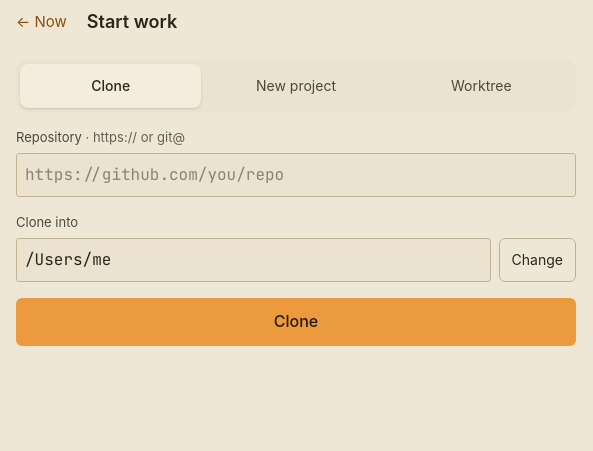
Start work › shows the daemon's refusal and offers to try again
The image size is (593, 451).
expect the field showing "/Users/me" is shown: met, box 16,238 -> 491,282
Type "https://github.com/octocat/Hello-World" into the field with placeholder "https://github.com/you/repo" at (296, 175), box 16,153 -> 576,197
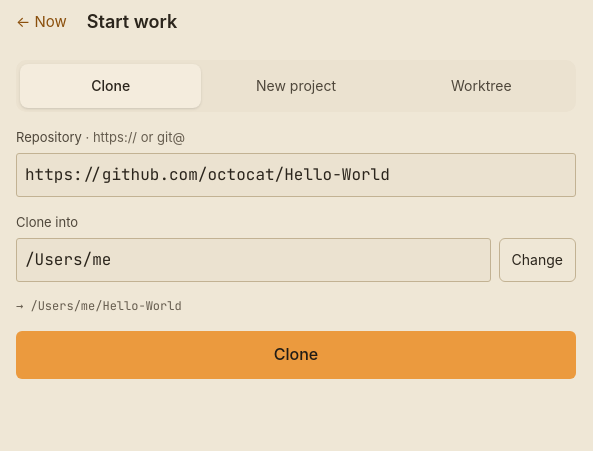
Click the button "Clone" at (296, 355), box 16,331 -> 576,379
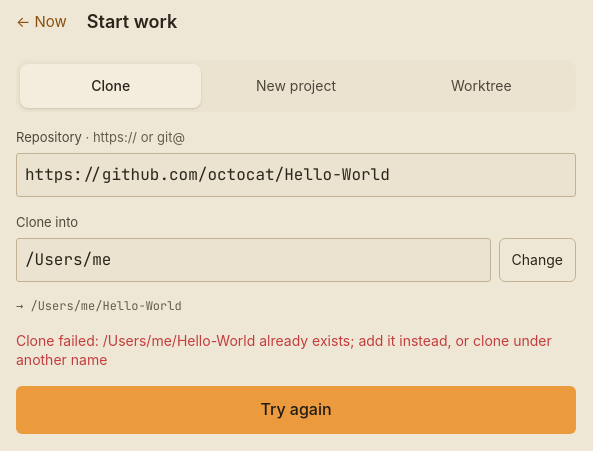
expect the message shows "already exists": met, box 16,332 -> 552,368
expect the button "Try again" is shown: met, box 16,386 -> 576,434
